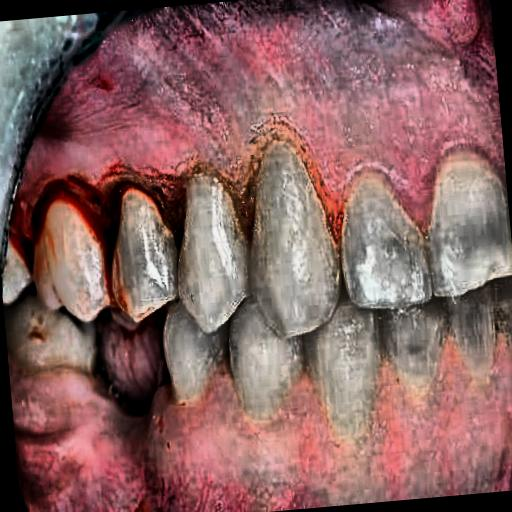Gingivitis: (0, 84, 373, 282)
